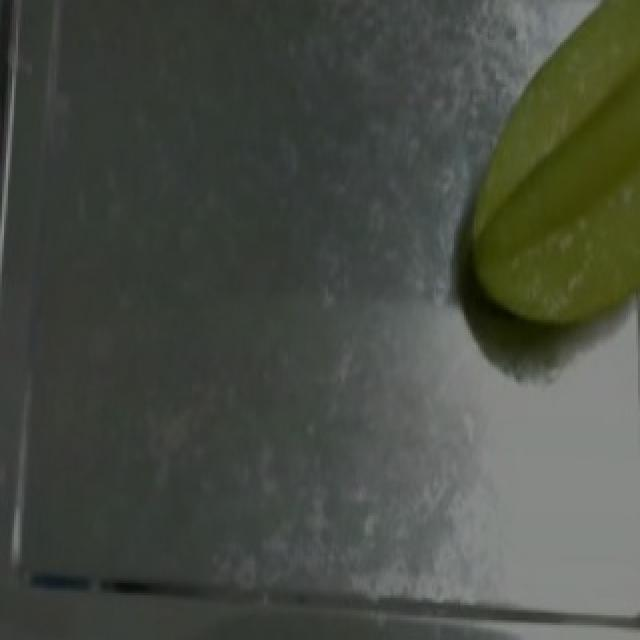fruit: (456, 2, 640, 350)
